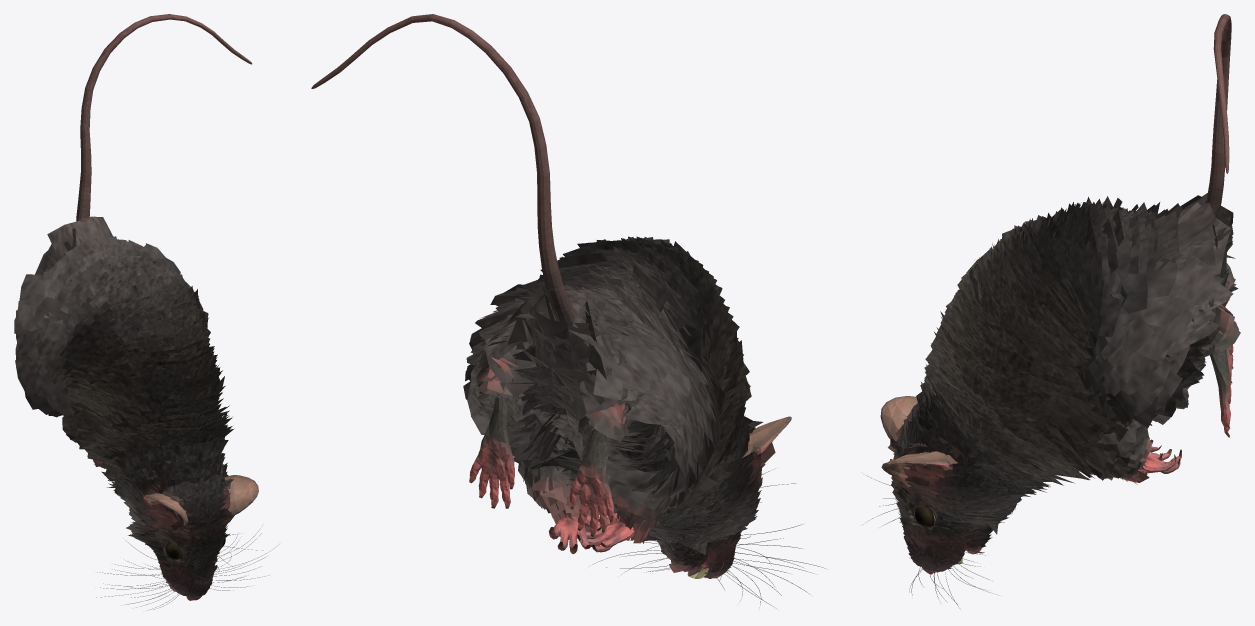
Rendered from black_rat__free_download.obj.
3 views of the same model, side by side, from view 1: azimuth 30°, elevation 25°; view 2: azimuth 150°, elevation 25°; view 3: azimuth 270°, elevation 25° (orthographic). The views are drawn at different scales.
Visible parts, largest first — view 1: Object.1, Object.3; view 2: Object.1, Object.3; view 3: Object.1, Object.3.
Part boxes in pixels (box(x1,y1,x2,y2)): Object.1: box(14, 216, 234, 597); Object.3: box(76, 14, 279, 610); Object.1: box(463, 236, 775, 578); Object.3: box(311, 14, 825, 608); Object.1: box(888, 193, 1240, 571); Object.3: box(861, 14, 1233, 609).
Bounding box in the file's own units: 1521 × 2599 × 1488.
2 materials, 2 textured.
